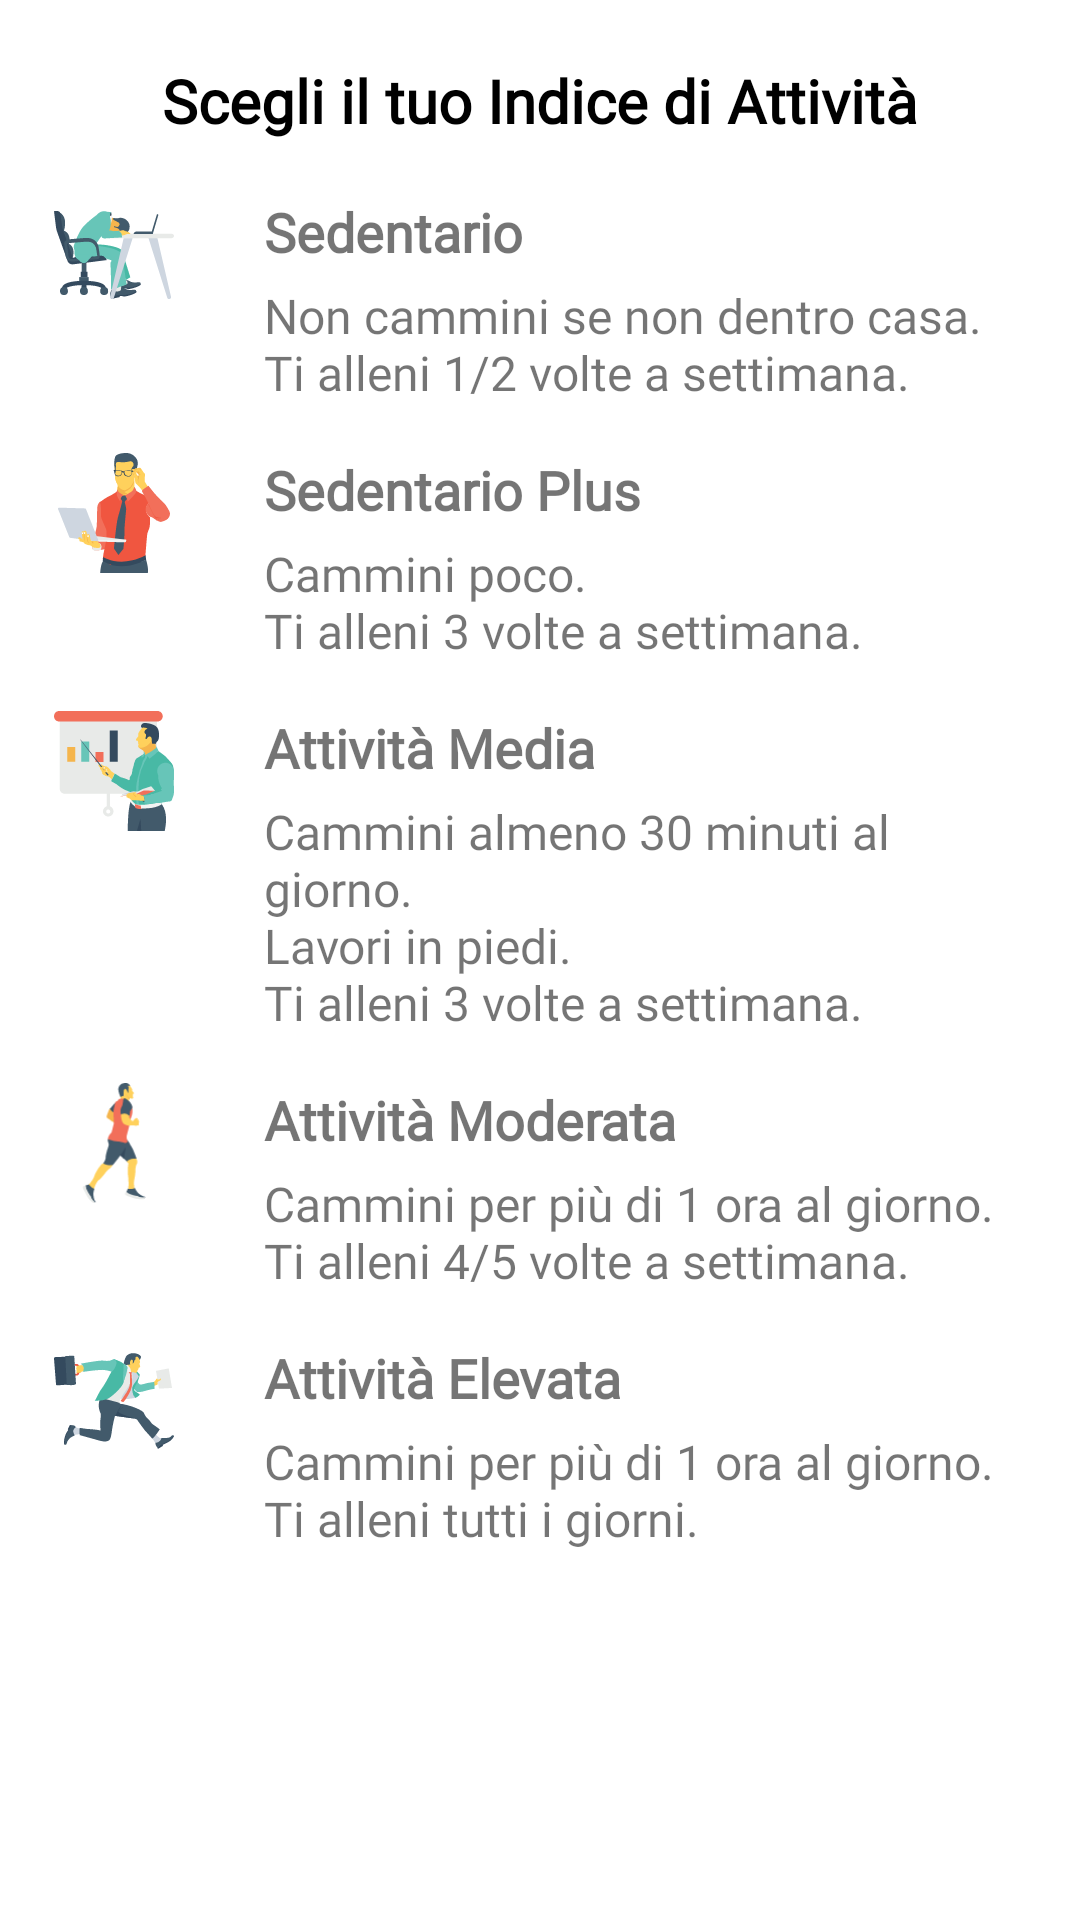

Icon bounding boxes for this 1080*1920 phone screenshot, format [x1, y1, x2, y2]:
att elevata: [54, 1353, 174, 1449]
att media: [54, 711, 174, 831]
att moderata: [85, 1083, 146, 1203]
